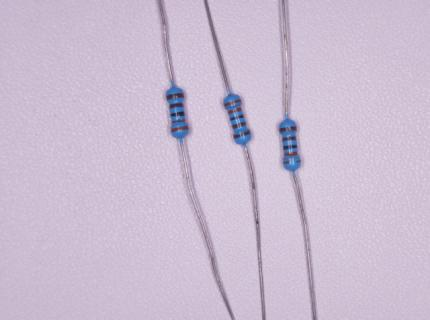Black band: (230, 114, 244, 121), (170, 111, 185, 117), (283, 145, 298, 150)
Brown band: (233, 130, 251, 139), (231, 121, 247, 130), (166, 93, 184, 100), (280, 126, 297, 132), (282, 135, 296, 142), (169, 103, 184, 109)
Orange band: (223, 99, 242, 107), (171, 126, 189, 133), (227, 107, 242, 115), (283, 160, 301, 164), (172, 119, 186, 124), (284, 152, 299, 156)
